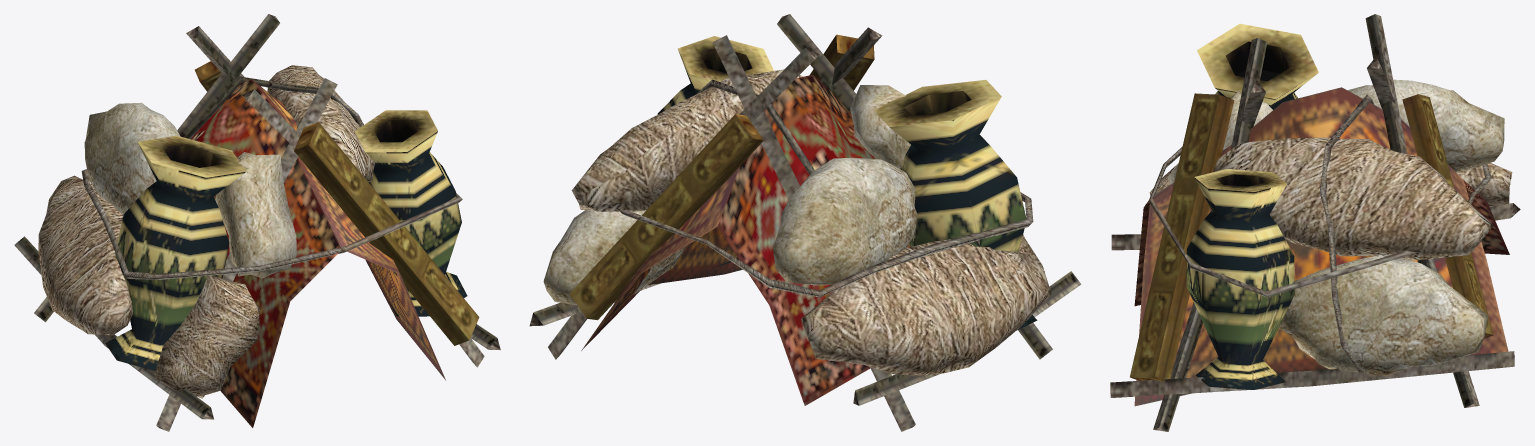
The model's file is kart_camel_prop1.dae.
The picture shows the model from 3 angles, left to right: view 1: azimuth 30°, elevation 25°; view 2: azimuth 150°, elevation 25°; view 3: azimuth 270°, elevation 25°; orthographic projection. The views are drawn at different scales.
Visible parts, largest first — view 1: props; view 2: props; view 3: props.
Boxes of the visible parts, <box> form: props: <box>14,14,500,431</box>; props: <box>529,14,1081,431</box>; props: <box>1110,14,1520,431</box>.
Size of the model in its own units: 2.65 by 2.45 by 2.16.
